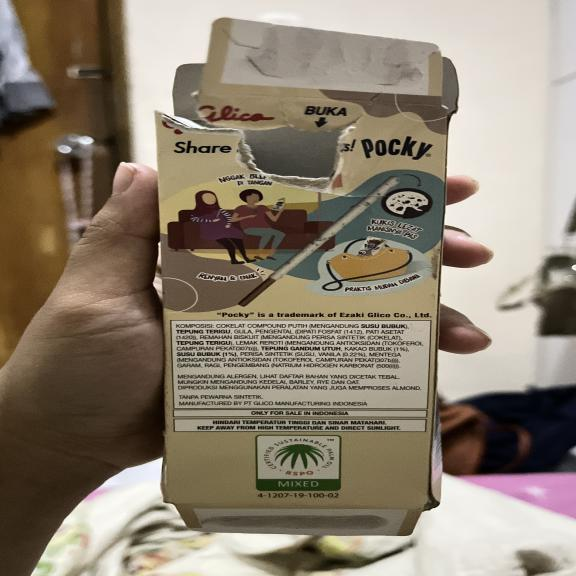Kertas: (157, 97, 455, 506)
